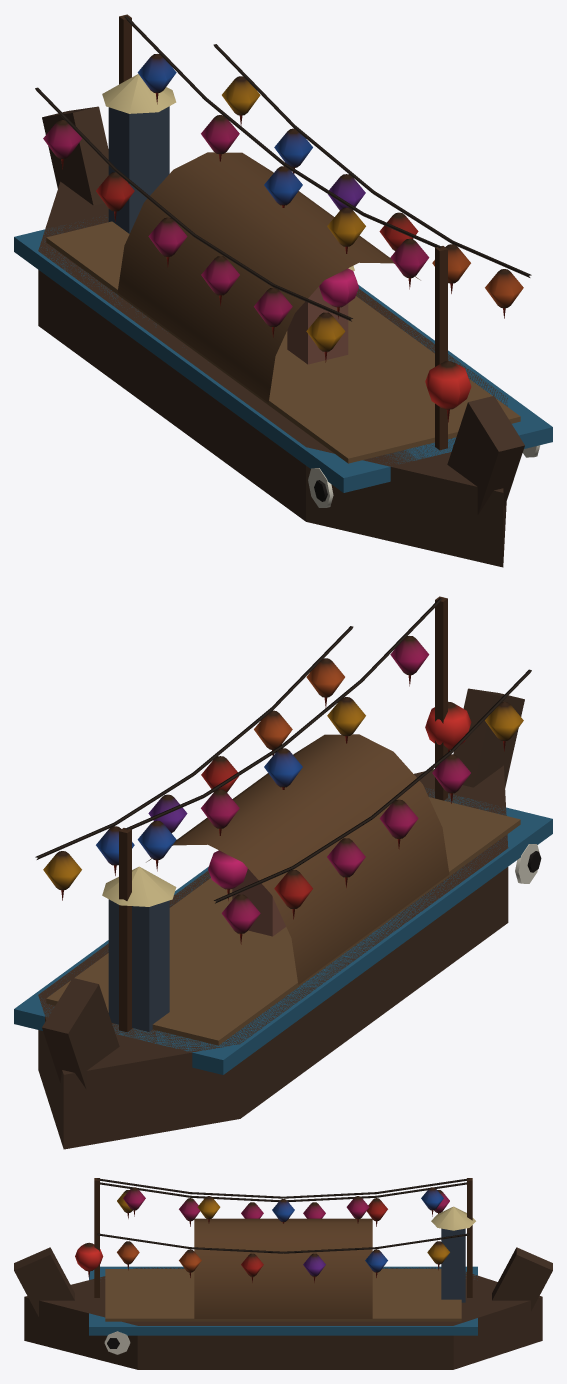
The model's file is drift_boat.glb.
3 renders of one model, top to bottom at view 1: azimuth 30°, elevation 25°; view 2: azimuth 150°, elevation 25°; view 3: azimuth 270°, elevation 25°, orthographic. The views are drawn at different scales.
Parts seen in each view (by area): view 1: DriftBoat; view 2: DriftBoat; view 3: DriftBoat.
Boxes of the visible parts, left/top/right/bottom form: DriftBoat: left=14, top=14, right=552, bottom=567; DriftBoat: left=14, top=596, right=552, bottom=1149; DriftBoat: left=14, top=1178, right=552, bottom=1369.
Size of the model in its own units: 1.82 by 2.21 by 6.65.
